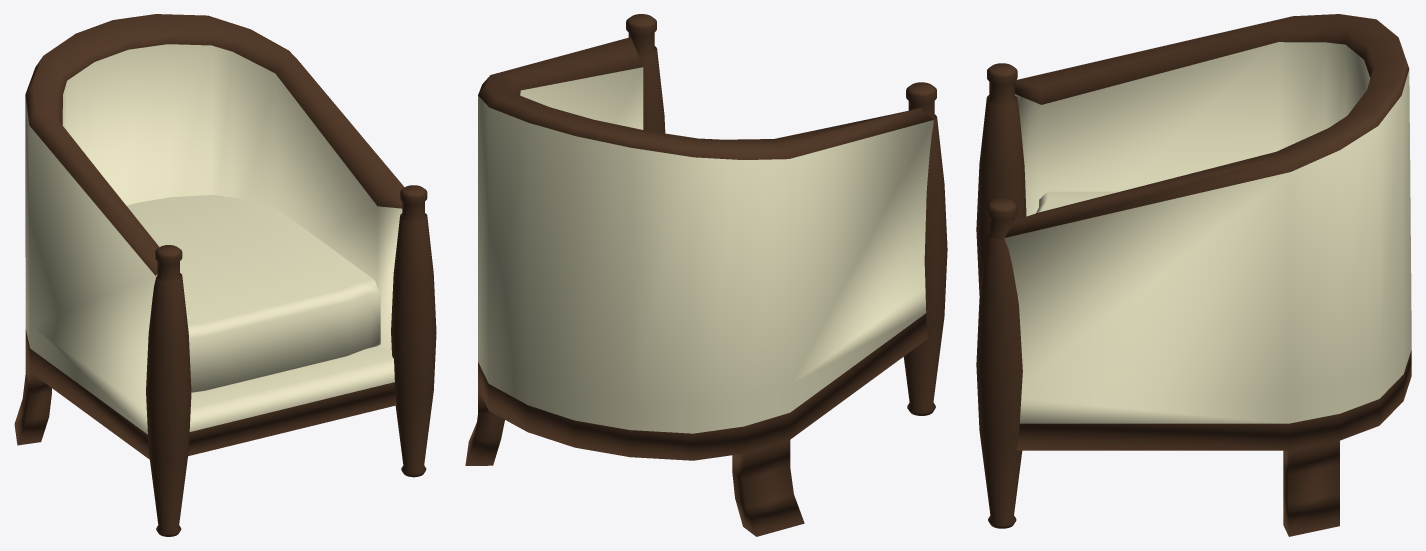
Rendered from sillon.fbx.
The picture shows the model from 3 angles, left to right: view 1: azimuth 30°, elevation 25°; view 2: azimuth 150°, elevation 25°; view 3: azimuth 270°, elevation 25°; orthographic projection. The views are drawn at different scales.
Visible parts, largest first — view 1: chair, cushion, leg, Leg; view 2: chair, leg, Leg; view 3: chair, Leg, leg, cushion.
Boxes of the visible parts, x1,y1,x2,y2 form: chair: (14,14,404,459); cushion: (127,195,380,392); leg: (146,245,191,536); Leg: (391,185,436,477); chair: (465,37,933,536); leg: (903,82,947,415); Leg: (626,14,665,133); chair: (1004,14,1411,536); Leg: (976,198,1022,528); leg: (976,63,1026,295); cushion: (1036,191,1119,213).
Size of the model in its own units: 87.59 by 100 by 99.27.
